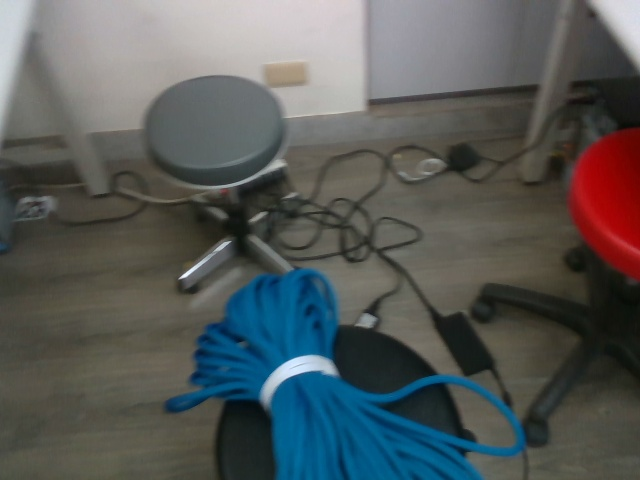rope: (160, 265, 527, 480)
